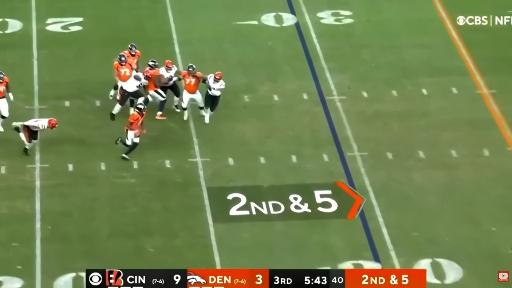Helmet: (48, 118, 57, 129), (129, 43, 137, 55), (136, 104, 146, 113), (118, 54, 127, 64), (144, 69, 152, 80), (148, 60, 158, 68), (165, 60, 173, 68), (187, 64, 195, 72), (214, 72, 222, 80), (0, 71, 5, 82)
Jersey: (122, 72, 147, 92), (182, 72, 202, 94), (125, 112, 145, 131), (207, 74, 225, 95), (114, 62, 133, 81), (159, 66, 177, 86), (145, 68, 160, 91), (23, 119, 49, 131), (123, 51, 140, 67), (0, 77, 8, 98)
Player: (110, 71, 152, 121), (12, 118, 58, 156), (116, 104, 146, 160), (180, 64, 206, 120), (145, 60, 166, 119), (110, 54, 134, 99), (159, 60, 180, 111), (205, 72, 225, 123), (0, 71, 13, 131), (122, 43, 141, 71)
